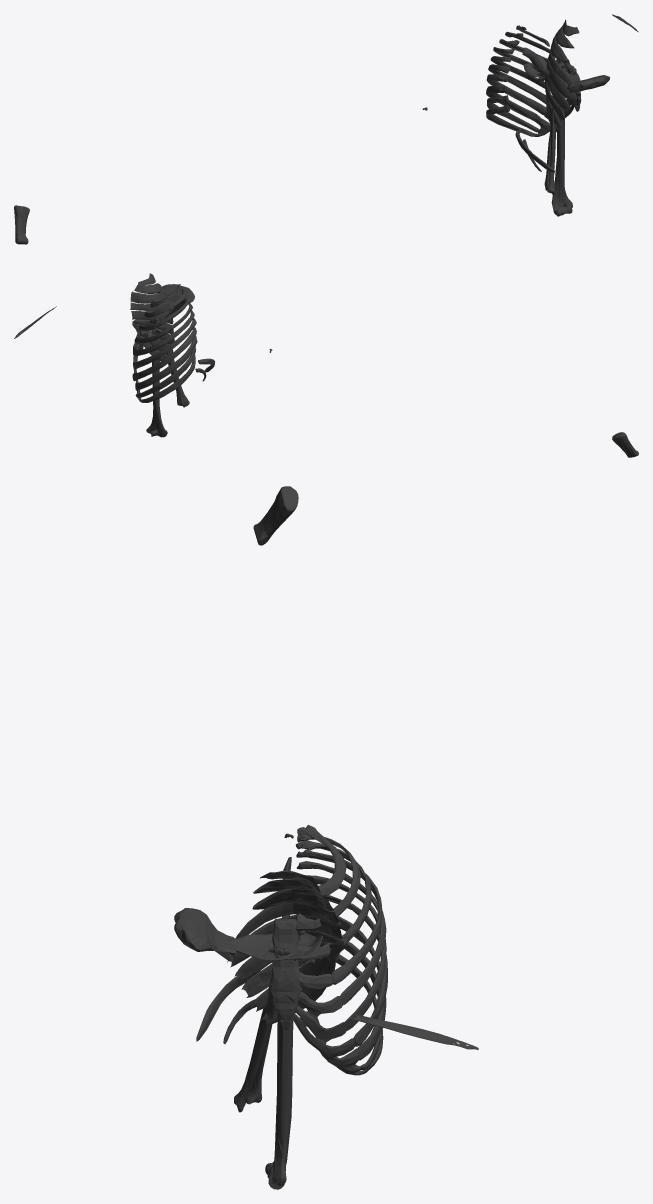
The model's file is sharedassets57.glb.
3 renders of one model, top to bottom at view 1: azimuth 30°, elevation 25°; view 2: azimuth 150°, elevation 25°; view 3: azimuth 270°, elevation 25°, orthographic. The views are drawn at different scales.
Visible parts, largest first — view 1: 0000_Serratus anterior, R__1000377, 0003_Humerus _arm, brachium_, R__000807, 0073_Seventh rib _07_, R__002279, 0064_Eighth rib _08_, R__002280, 0072_Sixth rib _06_, R__002278, 0017_2nd Middle phalanx _hand_, R__000815, 0066_Tenth rib _10_, R__002282, 0065_Ninth rib _09_, R__002281, 0004_Ulna _forearm, antebrachium_, R__000808, 0060_Manubrium__001162, 0071_Fifth rib _05_, R__002277; view 2: 0000_Serratus anterior, R__1000377, 0064_Eighth rib _08_, R__002280, 0073_Seventh rib _07_, R__002279, 0003_Humerus _arm, brachium_, R__000807, 0072_Sixth rib _06_, R__002278, 0065_Ninth rib _09_, R__002281, 0071_Fifth rib _05_, R__002277, 0066_Tenth rib _10_, R__002282, 0060_Manubrium__001162, 0017_2nd Middle phalanx _hand_, R__000815, 0070_Fourth rib _04_, R__002276, 0069_Third rib _03_, R__002275; view 3: 0000_Serratus anterior, R__1000377, 0003_Humerus _arm, brachium_, R__000807, 0061_Body of sternum__001163, 0060_Manubrium__001162, 0071_Fifth rib _05_, R__002277, 0070_Fourth rib _04_, R__002276, 0072_Sixth rib _06_, R__002278, 0073_Seventh rib _07_, R__002279, 0002_Scapula, R__000991, 0017_2nd Middle phalanx _hand_, R__000815, 0069_Third rib _03_, R__002275, 0064_Eighth rib _08_, R__002280 (+4 smaller).
Part boxes in pixels (x1,y1,x2,y2): 0000_Serratus anterior, R__1000377: (544,19,579,132); 0003_Humerus _arm, brachium_, R__000807: (551,83,572,216); 0073_Seventh rib _07_, R__002279: (486,74,574,118); 0064_Eighth rib _08_, R__002280: (486,85,550,132); 0072_Sixth rib _06_, R__002278: (488,64,572,111); 0017_2nd Middle phalanx _hand_, R__000815: (14,205,29,244); 0066_Tenth rib _10_, R__002282: (486,104,543,136); 0065_Ninth rib _09_, R__002281: (487,95,547,134); 0004_Ulna _forearm, antebrachium_, R__000808: (547,62,564,195); 0060_Manubrium__001162: (566,75,609,92); 0071_Fifth rib _05_, R__002277: (490,56,550,91); 0000_Serratus anterior, R__1000377: (130,273,174,360); 0064_Eighth rib _08_, R__002280: (135,336,197,391); 0073_Seventh rib _07_, R__002279: (132,327,196,381); 0003_Humerus _arm, brachium_, R__000807: (146,359,167,437); 0072_Sixth rib _06_, R__002278: (133,318,196,369); 0065_Ninth rib _09_, R__002281: (135,346,195,398); 0071_Fifth rib _05_, R__002277: (133,310,194,356); 0066_Tenth rib _10_, R__002282: (138,354,195,402); 0060_Manubrium__001162: (158,284,194,310); 0017_2nd Middle phalanx _hand_, R__000815: (612,432,638,457); 0070_Fourth rib _04_, R__002276: (134,302,192,343); 0069_Third rib _03_, R__002275: (139,296,189,330); 0000_Serratus anterior, R__1000377: (227,870,344,1025); 0003_Humerus _arm, brachium_, R__000807: (265,960,293,1189); 0061_Body of sternum__001163: (269,919,301,1020); 0060_Manubrium__001162: (174,908,236,961); 0071_Fifth rib _05_, R__002277: (296,861,386,1016); 0070_Fourth rib _04_, R__002276: (296,849,382,989); 0072_Sixth rib _06_, R__002278: (295,875,386,1042); 0073_Seventh rib _07_, R__002279: (292,895,387,1059); 0002_Scapula, R__000991: (229,911,340,962); 0017_2nd Middle phalanx _hand_, R__000815: (253,486,298,545); 0069_Third rib _03_, R__002275: (296,840,371,960); 0064_Eighth rib _08_, R__002280: (327,916,386,1069).
Size of the model in its own units: 0.7785 by 0.2153 by 0.1801.
1 material, 1 textured.
